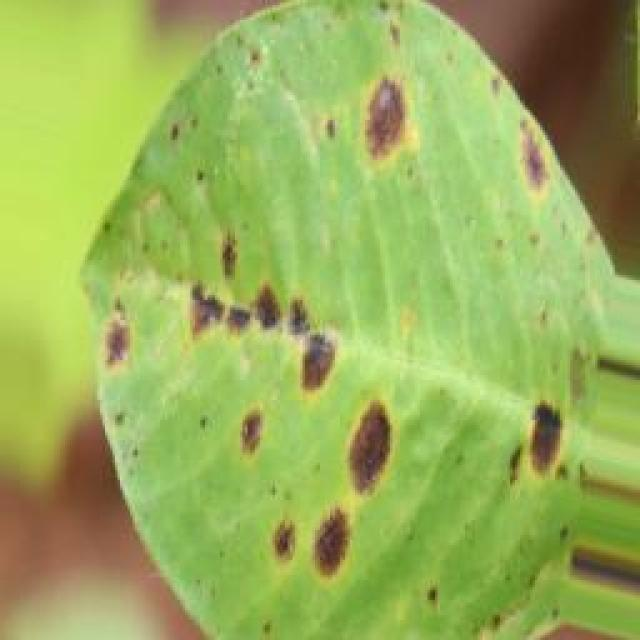Yellowish: (72, 21, 559, 640)
